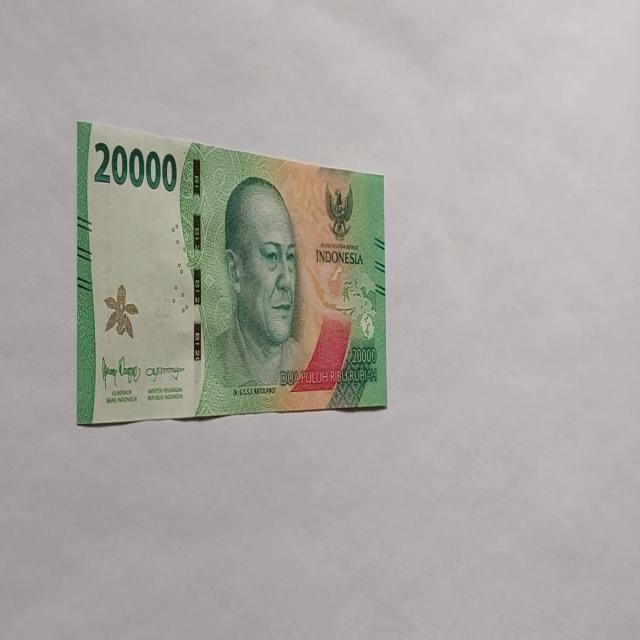dua puluh ribu rupiah: (75, 118, 387, 427)
